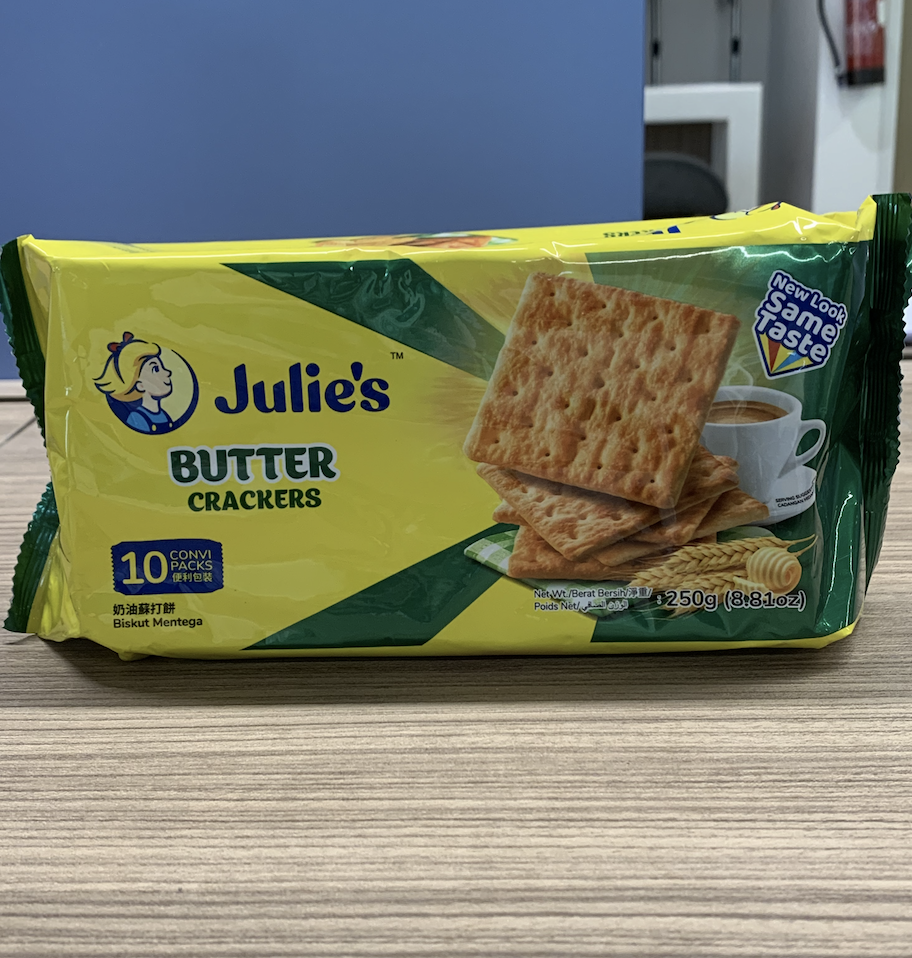crackers_150g: (65, 262, 861, 635)
